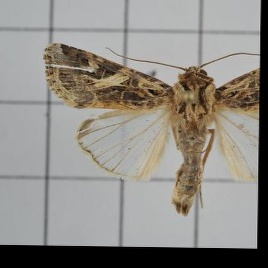Spodoptera litura: (41, 42, 259, 216)
